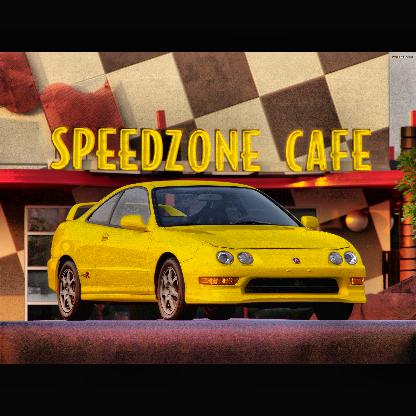Acura Integra Type R 2001: (48, 180, 369, 321)
